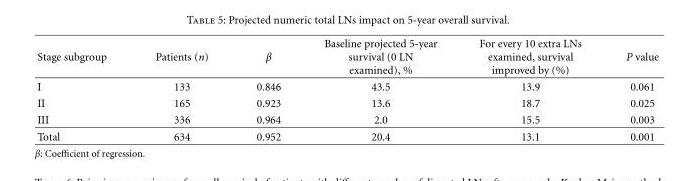table: (36, 37, 658, 142)
table column: (301, 37, 457, 142), (457, 37, 602, 142), (130, 37, 231, 142), (36, 37, 130, 142), (231, 37, 301, 142), (602, 37, 658, 142)
table column header: (36, 37, 658, 77)
table row: (36, 37, 658, 77), (36, 77, 658, 94), (36, 94, 658, 111), (36, 111, 658, 127), (36, 127, 658, 142)
